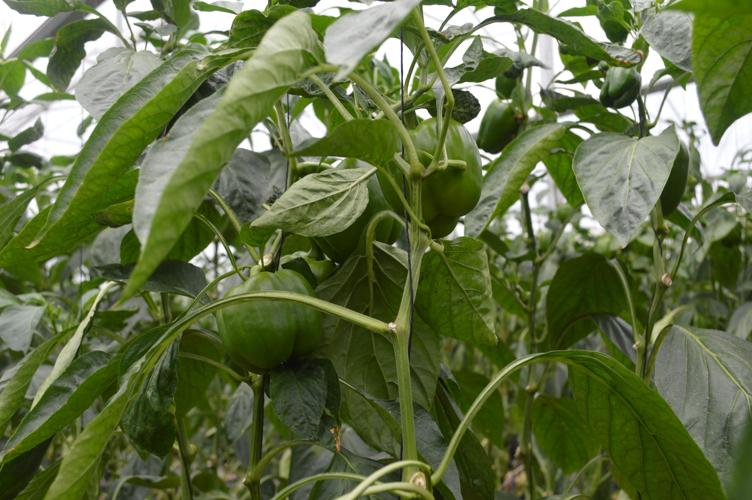BellPepper: (216, 269, 317, 372), (387, 121, 484, 228), (311, 157, 391, 254), (476, 103, 520, 151), (589, 70, 640, 107)
